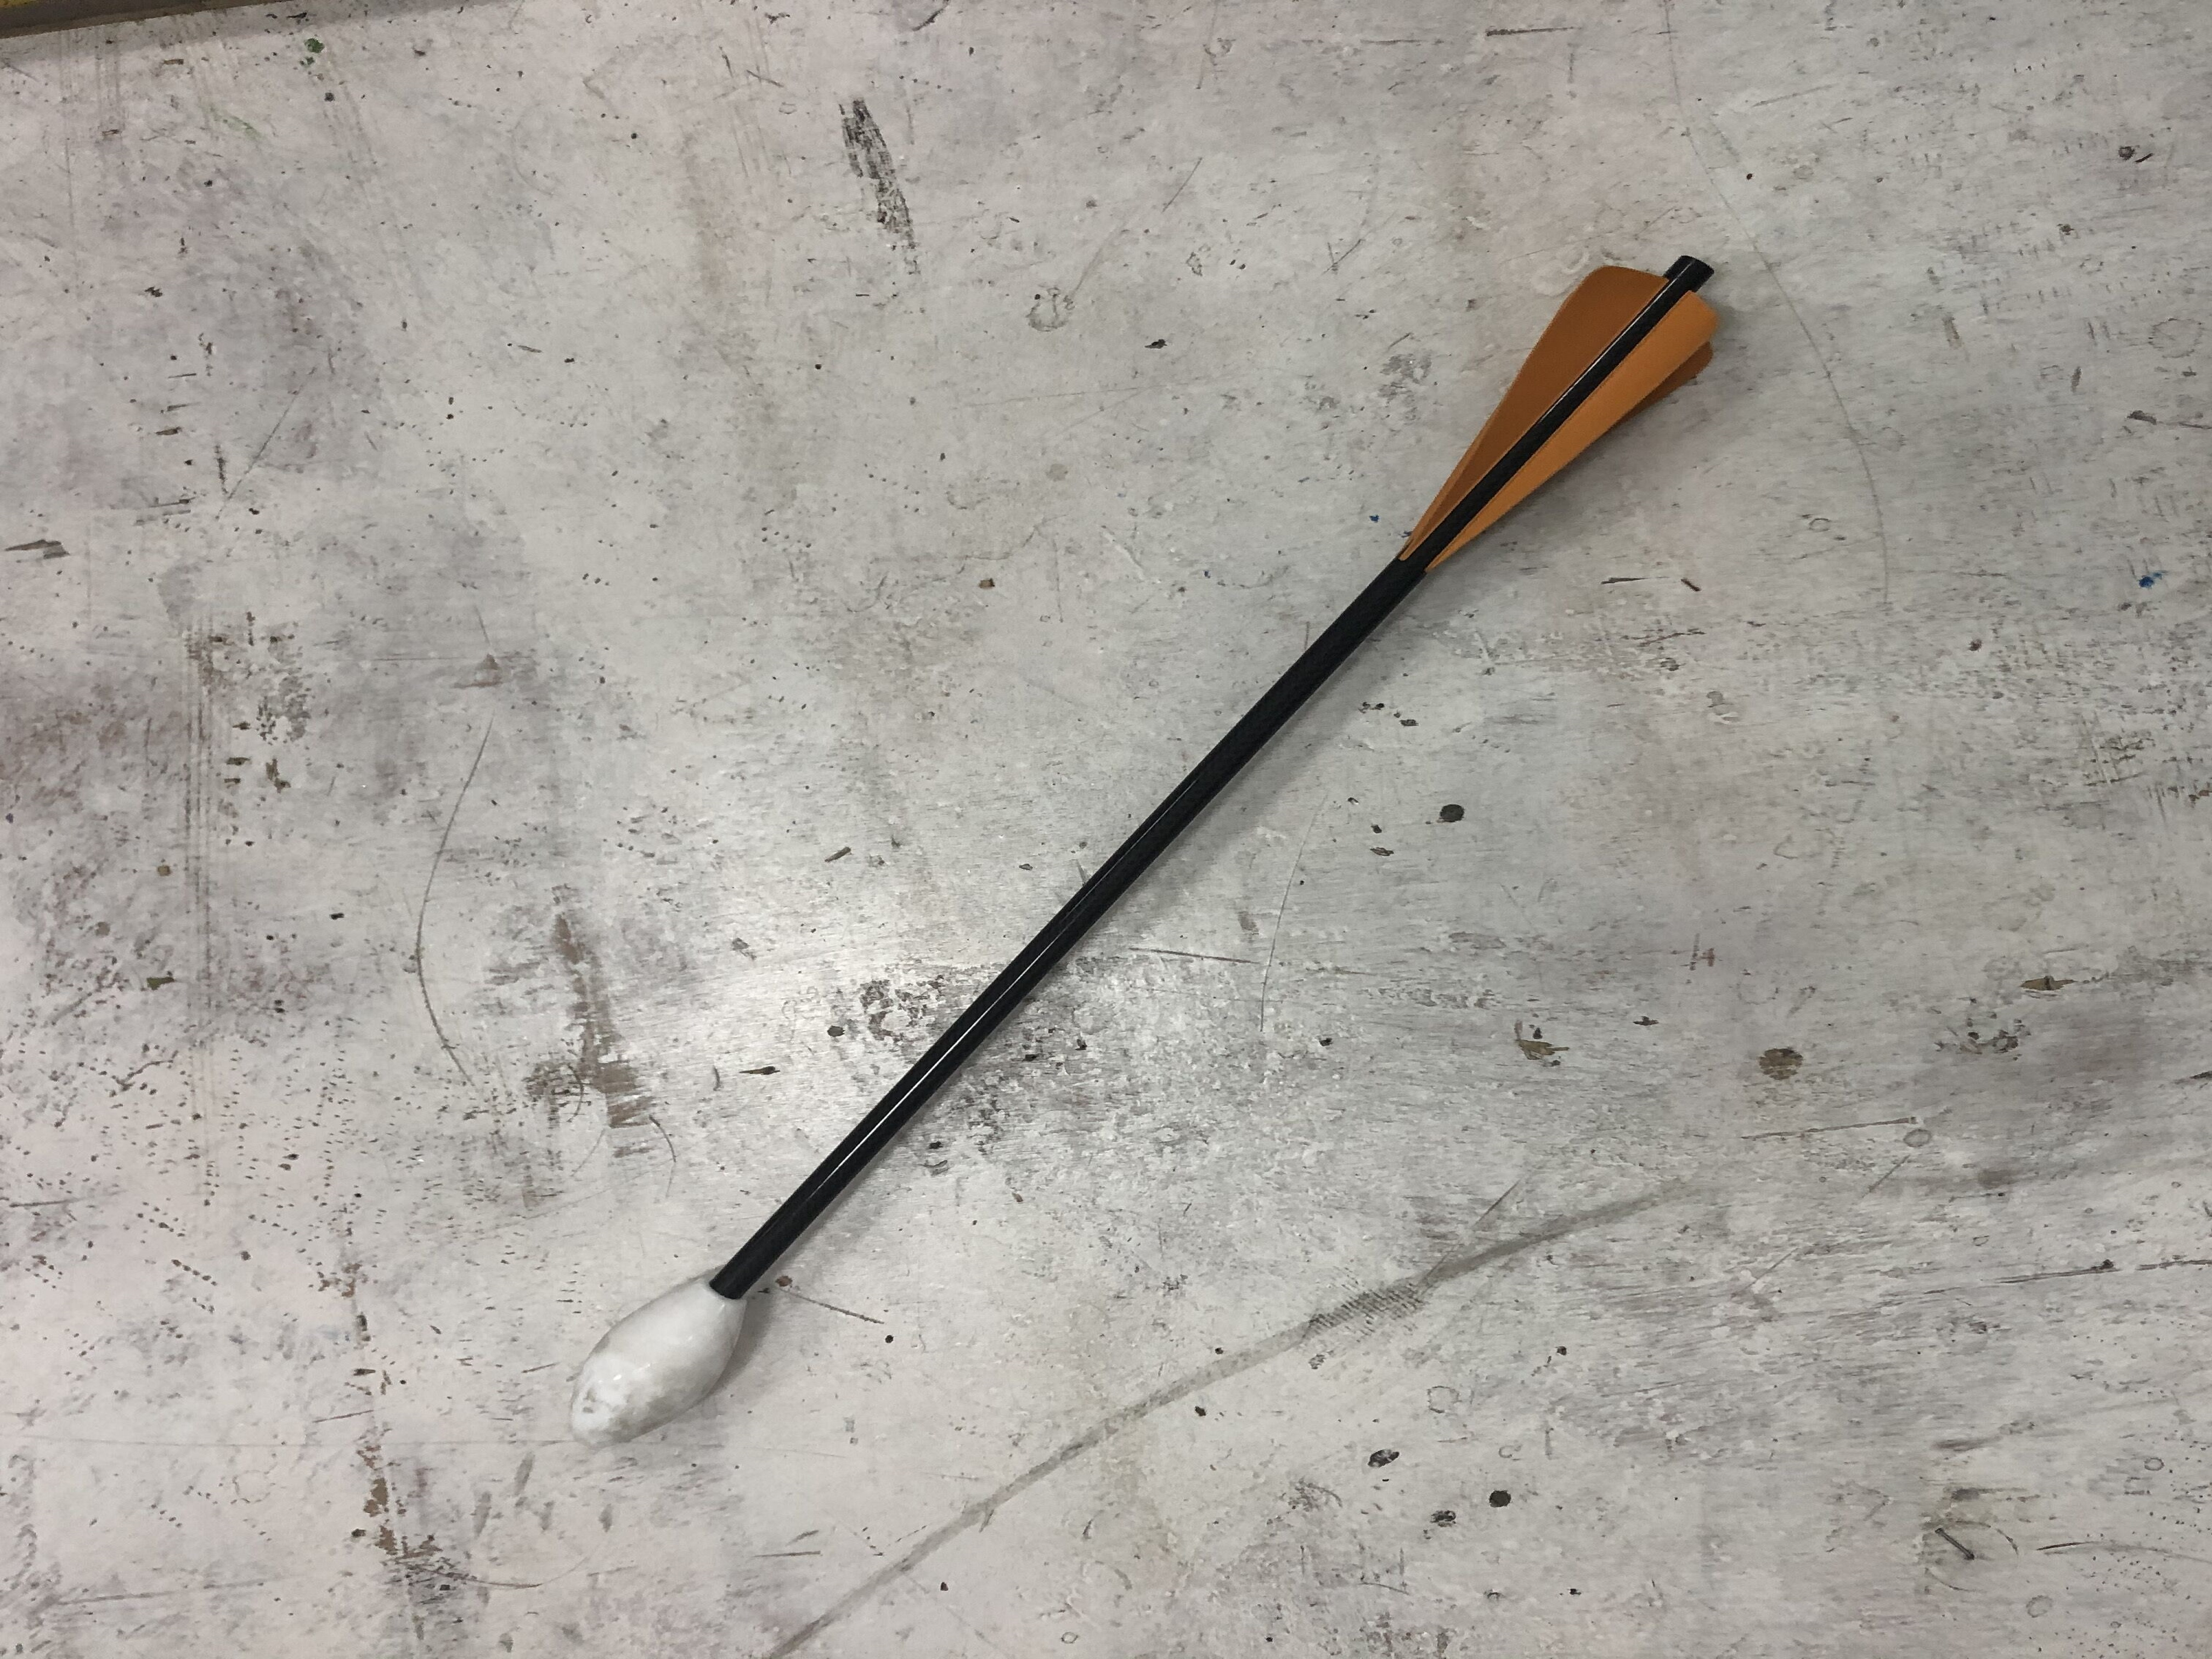arrow: (566, 251, 1730, 1450)
arrowFront: (570, 1269, 751, 1446)
